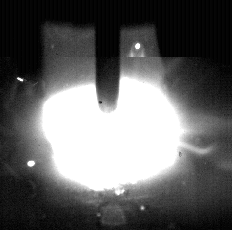arame: (97, 0, 121, 113)
poca: (39, 0, 186, 230)
